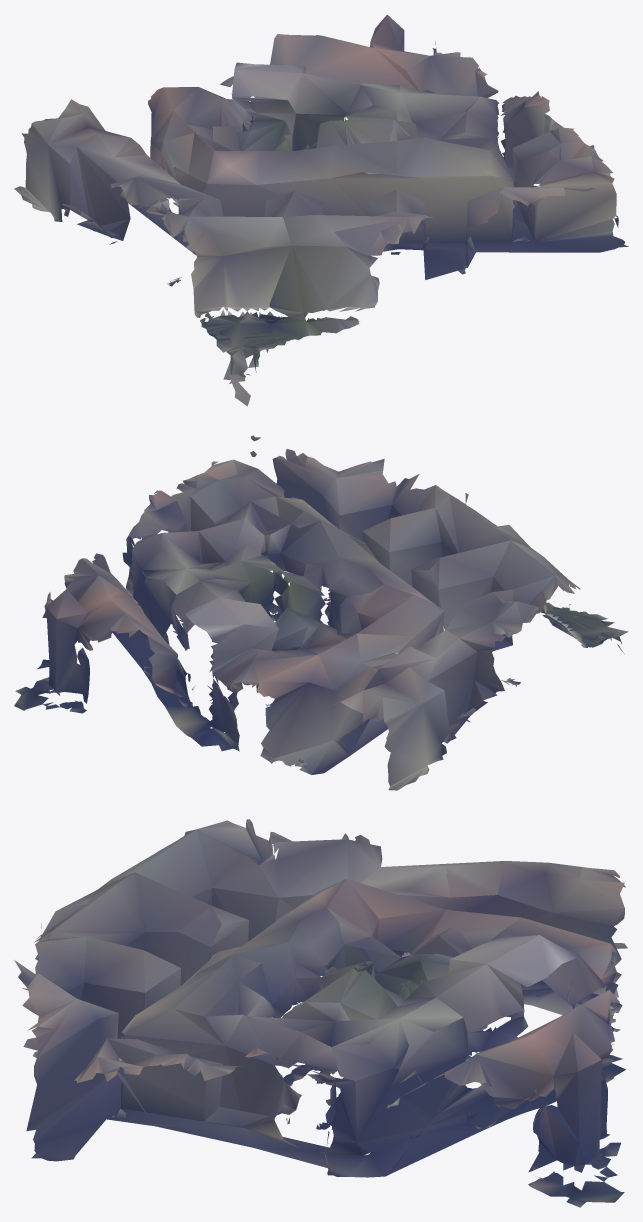
3 renders of one model, top to bottom at view 1: azimuth 30°, elevation 25°; view 2: azimuth 150°, elevation 25°; view 3: azimuth 270°, elevation 25°, orthographic. The views are drawn at different scales.
Size of the model in its own units: 108 by 38.67 by 108.
